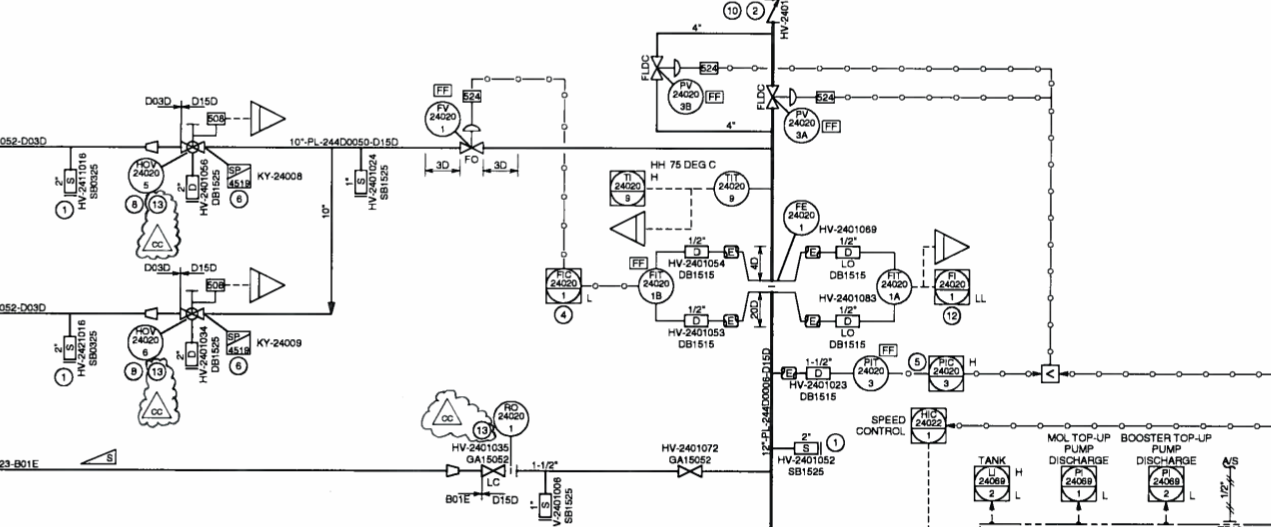Instrument: (491, 396, 533, 442), (664, 77, 707, 121), (874, 265, 916, 308), (782, 105, 821, 151), (636, 266, 678, 308), (710, 169, 753, 210), (421, 98, 464, 139), (781, 196, 821, 239), (851, 352, 891, 394), (125, 323, 166, 363), (124, 156, 166, 195)
Instrument-square: (540, 262, 586, 308), (602, 166, 650, 209), (1143, 464, 1189, 507), (905, 402, 949, 446), (925, 353, 969, 395), (969, 462, 1012, 504), (930, 267, 973, 308), (1055, 464, 1099, 503)
